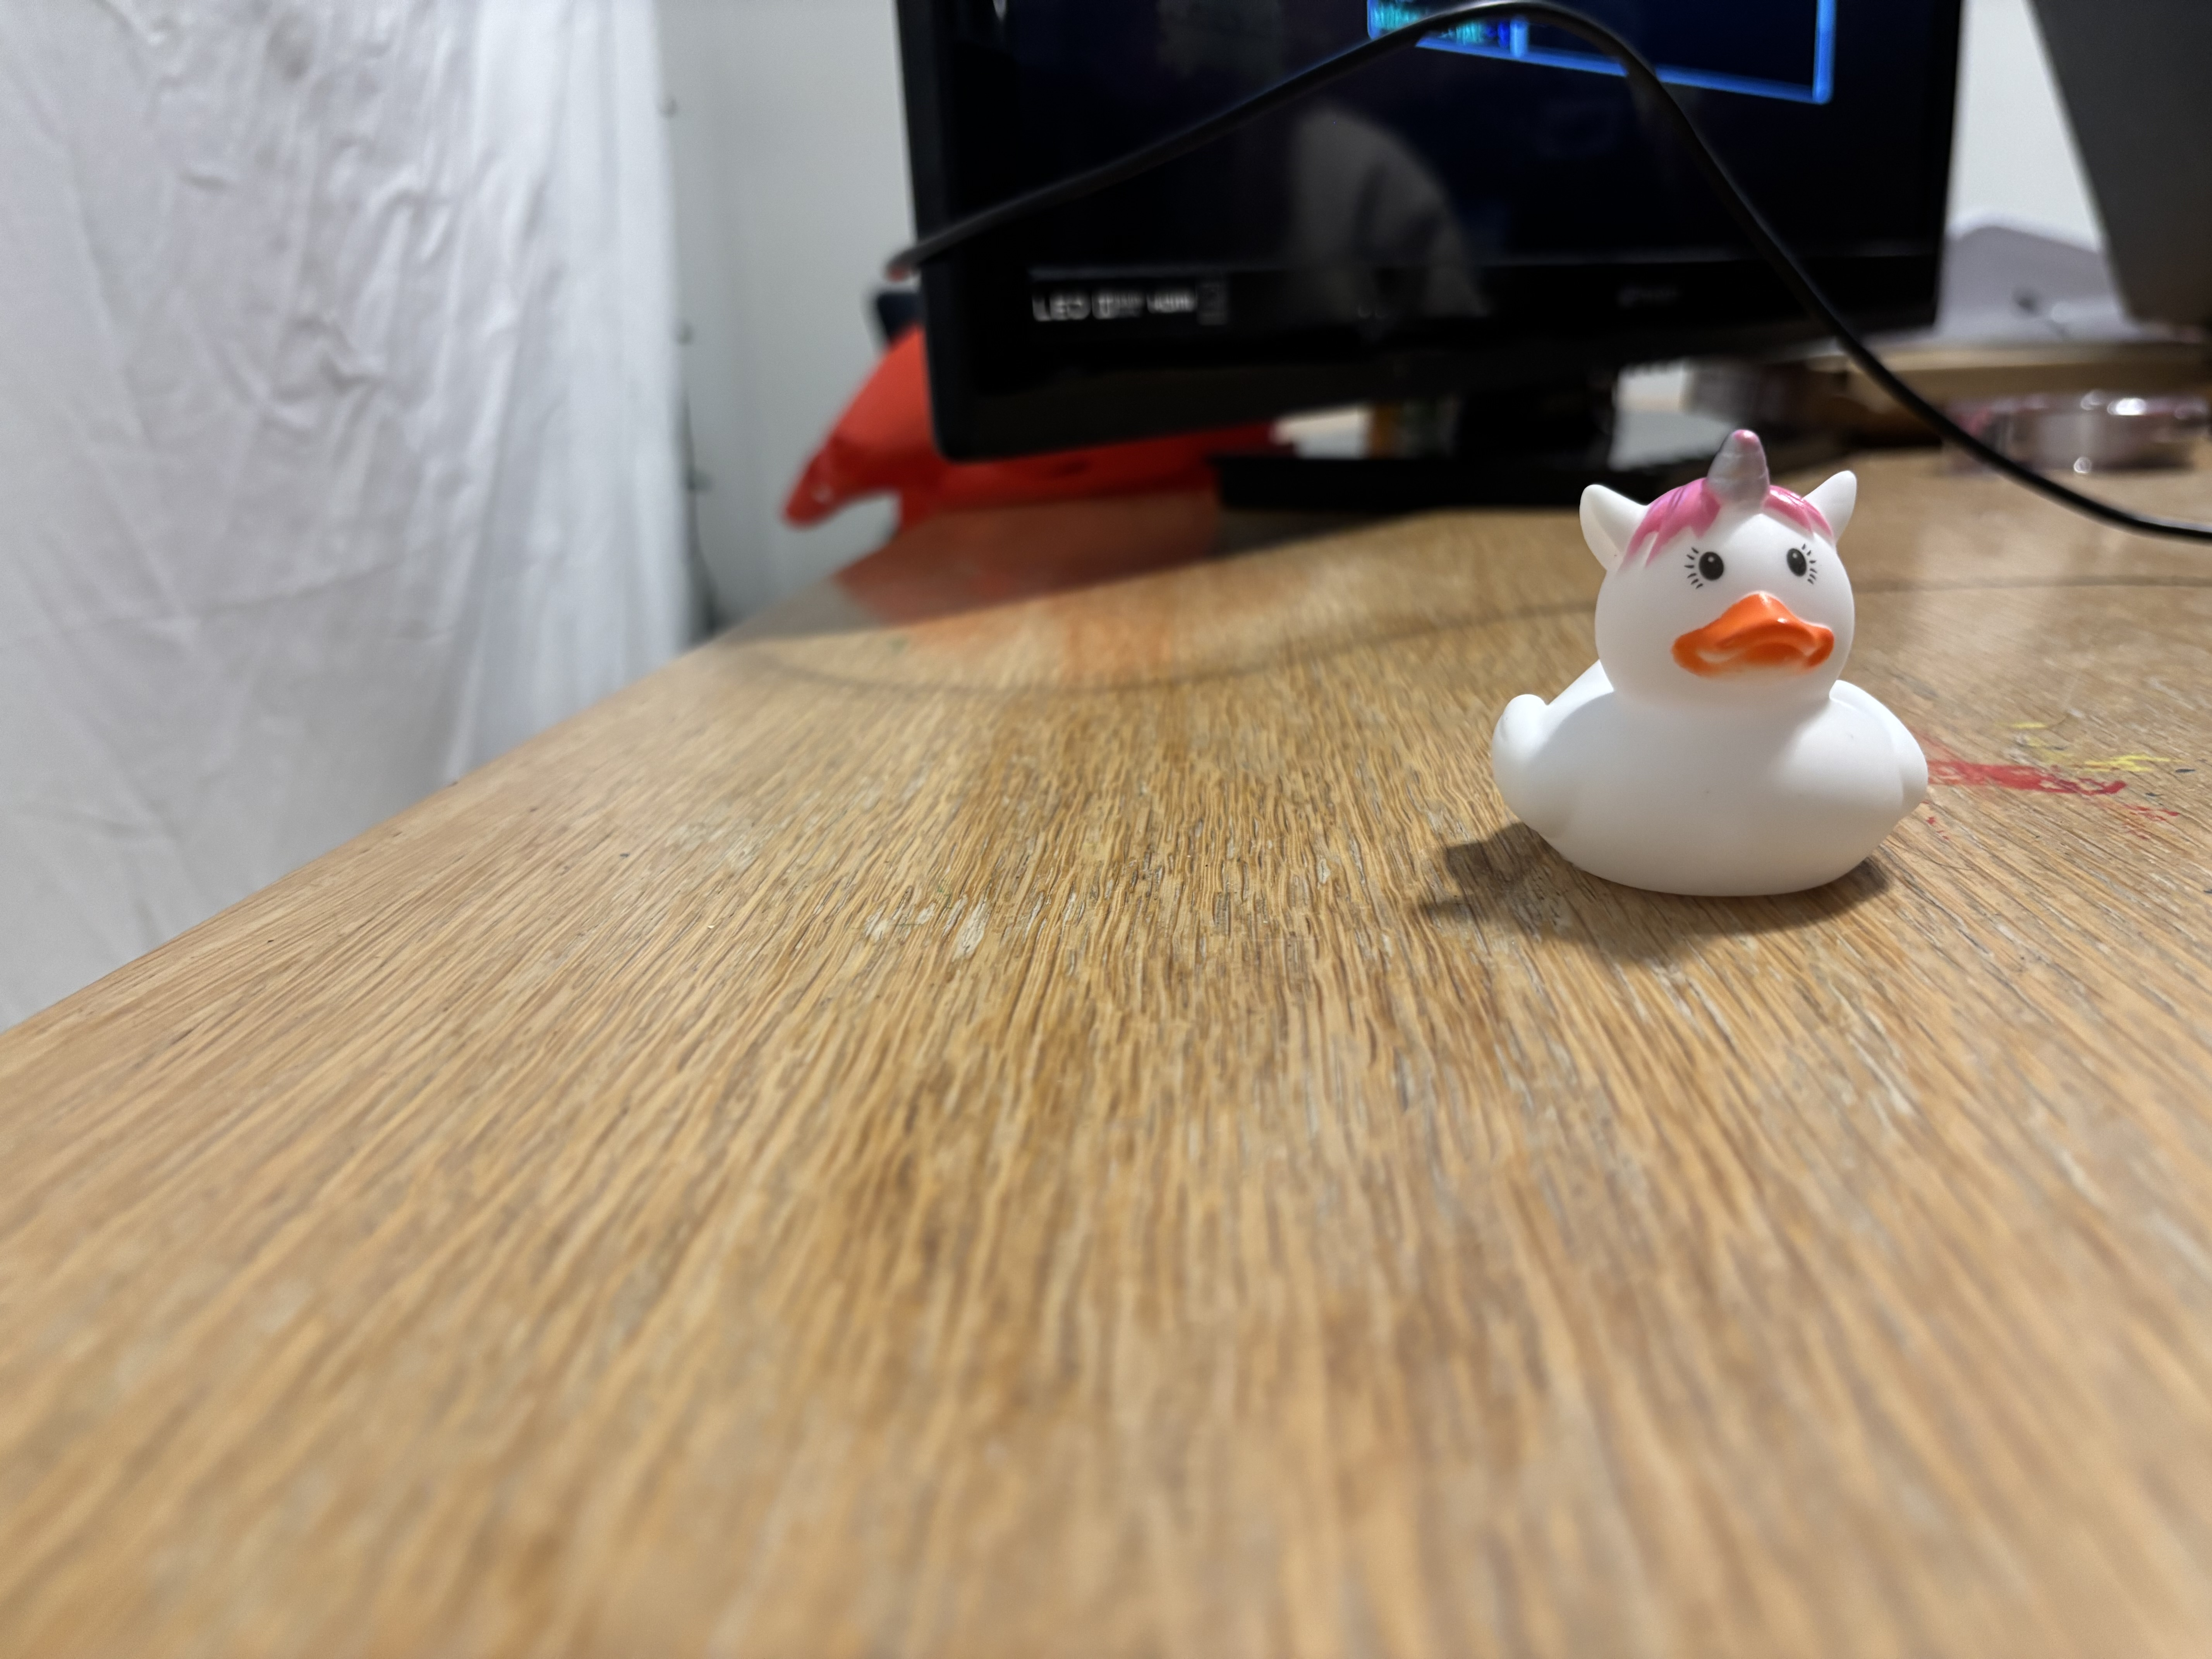Ducks (Specialty): (1479, 429, 1935, 892)
